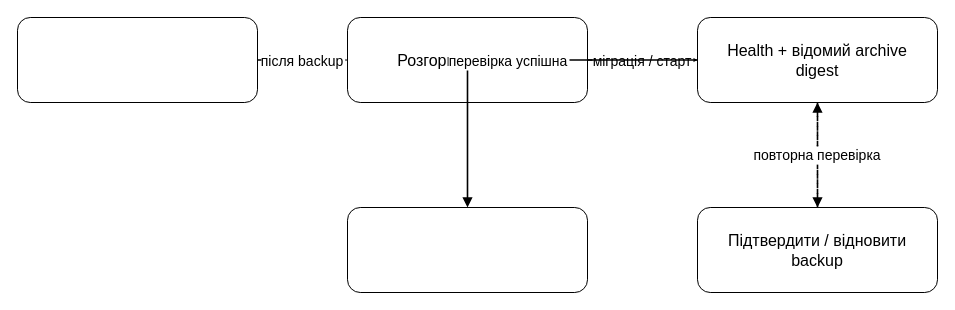
This 955x310 diagram has some shape labels left out. Each missing label, with the box of its shape:
Backup DB + blobs: (16, 16, 258, 102)
Відновити клієнтський запис: (346, 206, 588, 292)
